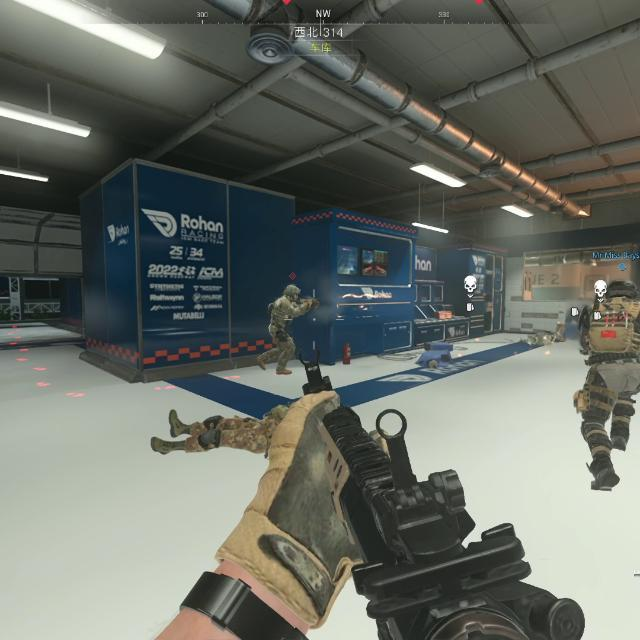MW2_body: (257, 271, 322, 377)
